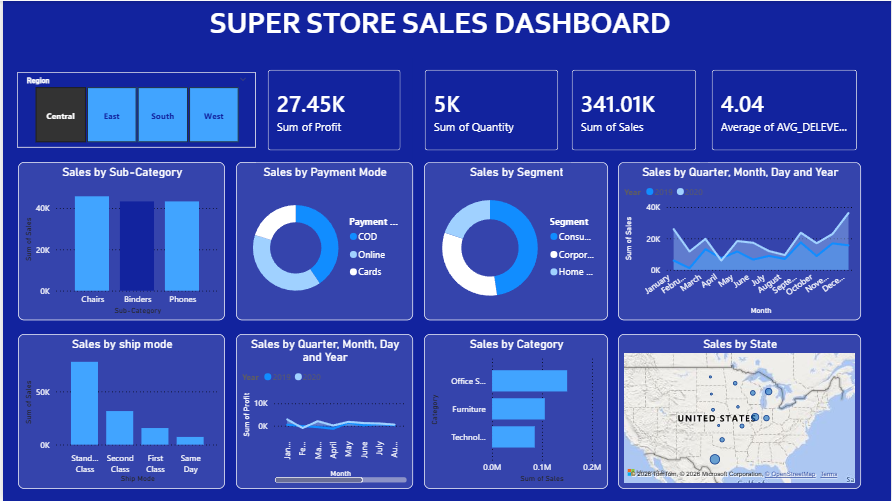

The dashboard page shown, as its layout file describes it:
{"tool":"powerbi","page":{"name":"Page 2","canvas":[1280,720],"ordinal":0},"visuals":[{"type":"clusteredBarChart","title":"Sales by Category","fields":{"Category":["Sheet1.Category"],"Y":["Sum(Sheet1.Sales)"]},"box":[606.7,480,265,223.3],"z":0},{"type":"columnChart","title":"Sales by Sub-Category","fields":{"Category":["Sheet1.Sub-Category"],"Y":["Sum(Sheet1.Sales)"]},"box":[21.7,231.7,298.3,228.3],"z":1000},{"type":"columnChart","title":"Sales by ship mode","fields":{"Y":["Sum(Sheet1.Sales)"],"Category":["Sheet1.Ship Mode"]},"box":[21.7,480,298.3,223.3],"z":2000},{"type":"areaChart","title":" Sales by Quarter, Month, Day and Year","fields":{"Y":["Sum(Sheet1.Sales)"],"Series":["Sheet1.Order Date.Variation.Date Hierarchy.Year"],"Category":["Sheet1.Order Date.Variation.Date Hierarchy.Month"]},"box":[885,231.7,350,228.3],"z":3000},{"type":"areaChart","title":" Sales by Quarter, Month, Day and Year","fields":{"Category":["Sheet1.Order Date.Variation.Date Hierarchy.Month"],"Y":["Sum(Sheet1.Profit)"],"Series":["Sheet1.Order Date.Variation.Date Hierarchy.Year"]},"box":[335.5,479.5,254.9,223.2],"z":4000},{"type":"map","title":" Sales by State","fields":{"Category":["Sheet1.State"],"Size":["Sum(Sheet1.Sales)"]},"box":[885,480,350,223.3],"z":5000},{"type":"donutChart","title":"Sales by Segment","fields":{"Category":["Sheet1.Segment"],"Y":["Sum(Sheet1.Sales)"]},"box":[606.7,231.7,265,228.3],"z":6000},{"type":"donutChart","title":" Sales by Payment Mode","fields":{"Y":["Sum(Sheet1.Sales)"],"Category":["Sheet1.Payment Mode"]},"box":[335,231.7,255,228.3],"z":7000},{"type":"slicer","fields":{"Values":["Sheet1.Region"]},"box":[20.2,102.2,344.2,109.4],"z":8000},{"type":"textbox","box":[0,0,1258.3,101.7],"z":9000},{"type":"cardVisual","fields":{"Data":["Sum(Sheet1.Sales)"]},"box":[801.7,81.7,213.3,150],"z":10000},{"type":"cardVisual","fields":{"Data":["Sum(Sheet1.Quantity)"]},"box":[590,81.7,226.7,150],"z":11000},{"type":"cardVisual","fields":{"Data":["Sum(Sheet1.Profit)"]},"box":[365,81.7,225,150],"z":12000},{"type":"cardVisual","fields":{"Data":["Avg(Sheet1.AVG_DELEVERY)"]},"box":[1003.3,81.7,243.3,150],"z":13000}]}

Visuals, with their boxes in screenshot pixels (x1, y1, x2, y2), scaled from the page's 1280x720 canvas onto the 892x501 screenshot:
"Sales by Category" clusteredBarChart: 423 334 607 489
"Sales by Sub-Category" columnChart: 15 161 223 320
"Sales by ship mode" columnChart: 15 334 223 489
" Sales by Quarter, Month, Day and Year" areaChart: 617 161 861 320
" Sales by Quarter, Month, Day and Year" areaChart: 234 334 411 489
" Sales by State" map: 617 334 861 489
"Sales by Segment" donutChart: 423 161 607 320
" Sales by Payment Mode" donutChart: 233 161 411 320
slicer - Sheet1.Region: 14 71 254 147
textbox: 0 0 877 71
cardVisual - Sum(Sheet1.Sales): 559 57 707 161
cardVisual - Sum(Sheet1.Quantity): 411 57 569 161
cardVisual - Sum(Sheet1.Profit): 254 57 411 161
cardVisual - Avg(Sheet1.AVG_DELEVERY): 699 57 869 161
